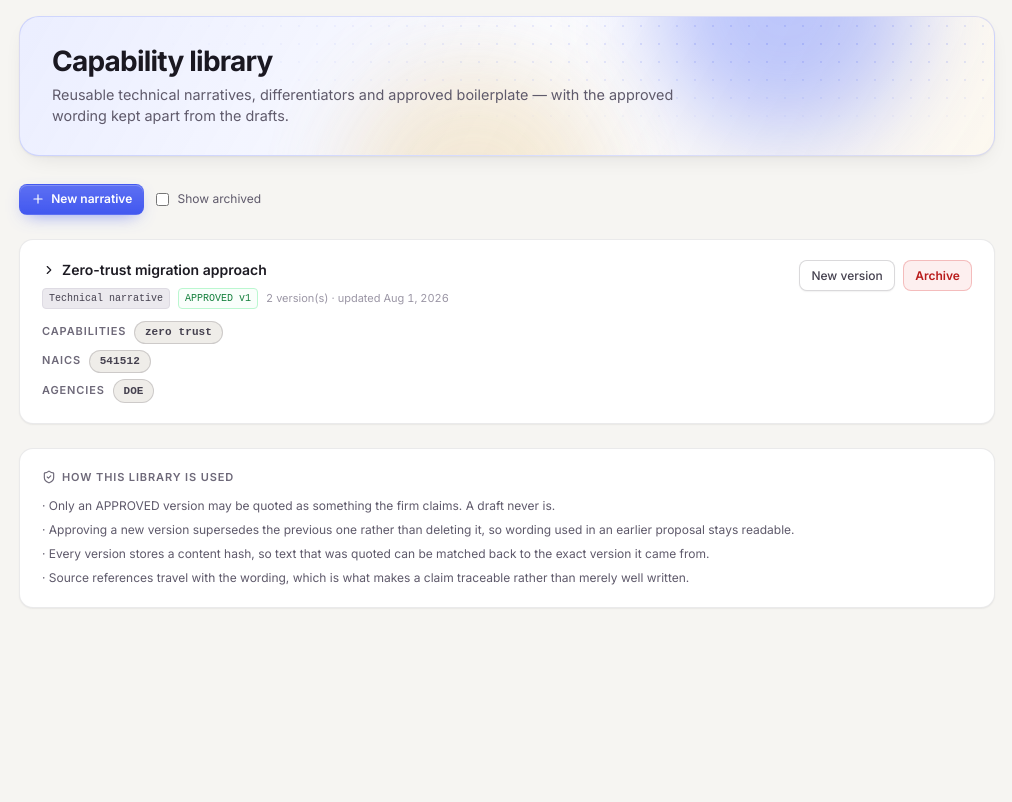
Test: CapabilityLibrary › says saving never approves
The image size is (1012, 802).
Click the button "New version".
click(847, 276)  # box [799,260,895,291]
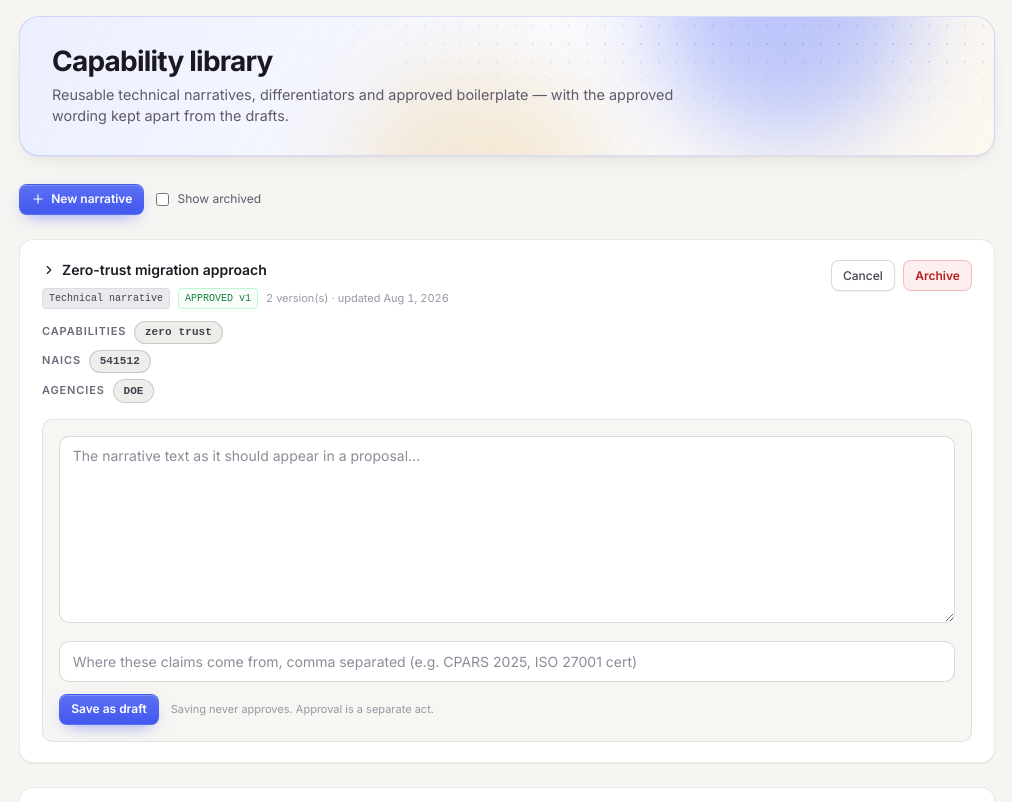
Expected: the text "Saving never approves. Approval is a separate act." is shown, [171,701,434,718]
